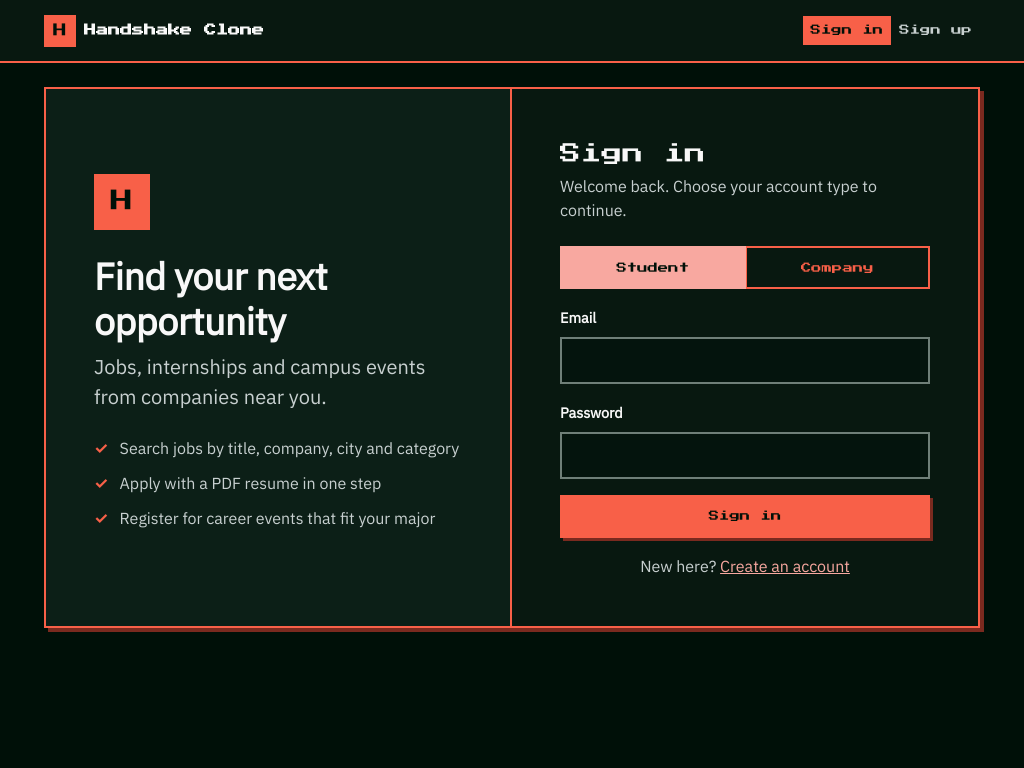
Test case: Login page › explains when the server cannot be reached
Type "Ada@Example.com" into the field labelled "Email".
click(745, 361); type("Ada@Example.com")  # box x1=560 y1=337 x2=930 y2=384
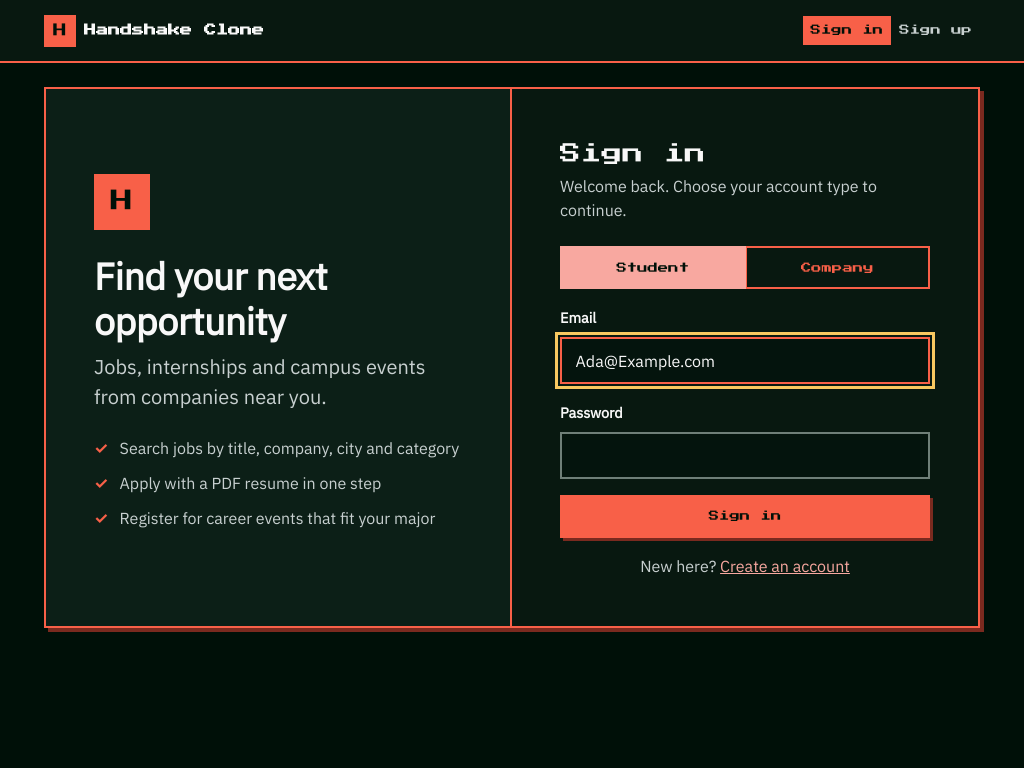
Type "Secret123" into the password field labelled "Password".
click(745, 456); type("Secret123")  # box x1=560 y1=432 x2=930 y2=479
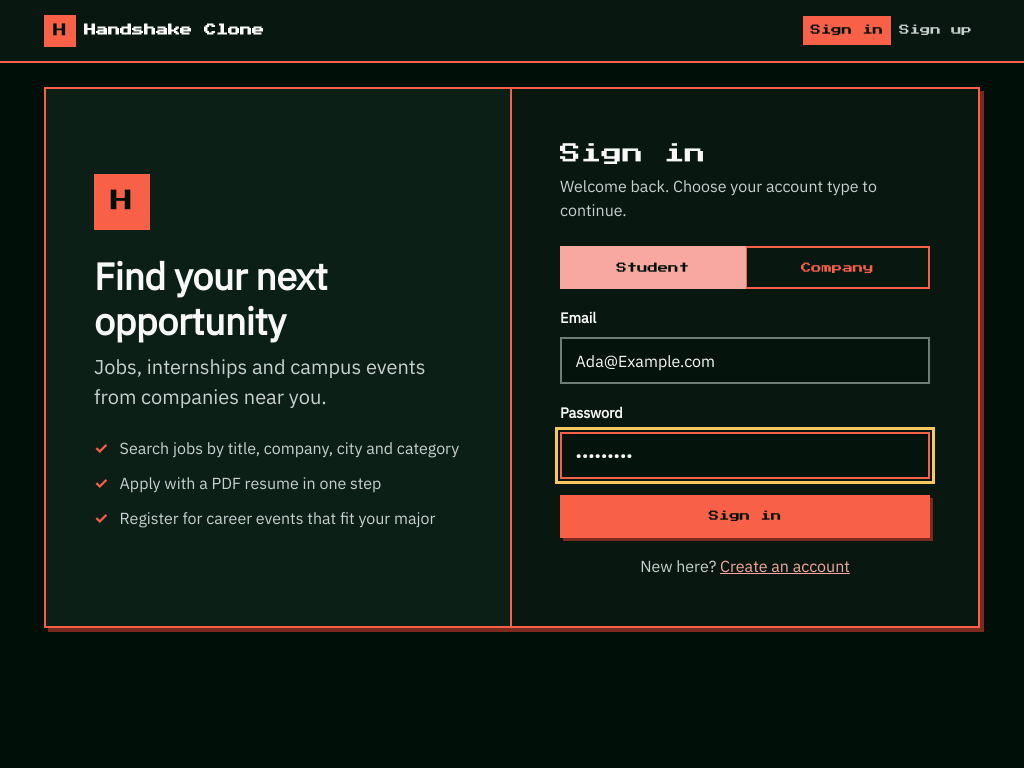
Click the button "Sign in".
click(745, 517)  # box x1=560 y1=495 x2=930 y2=538
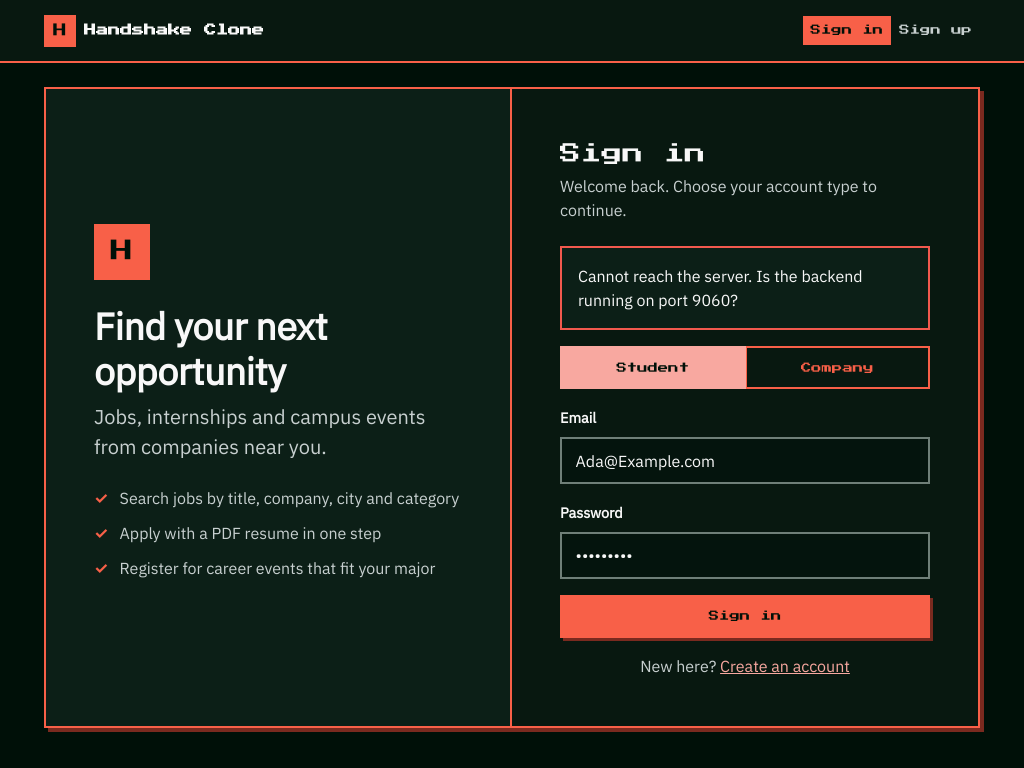
Now the text "Cannot reach the server. Is the backend running on port 9060?" is shown, box x1=560 y1=246 x2=930 y2=330
